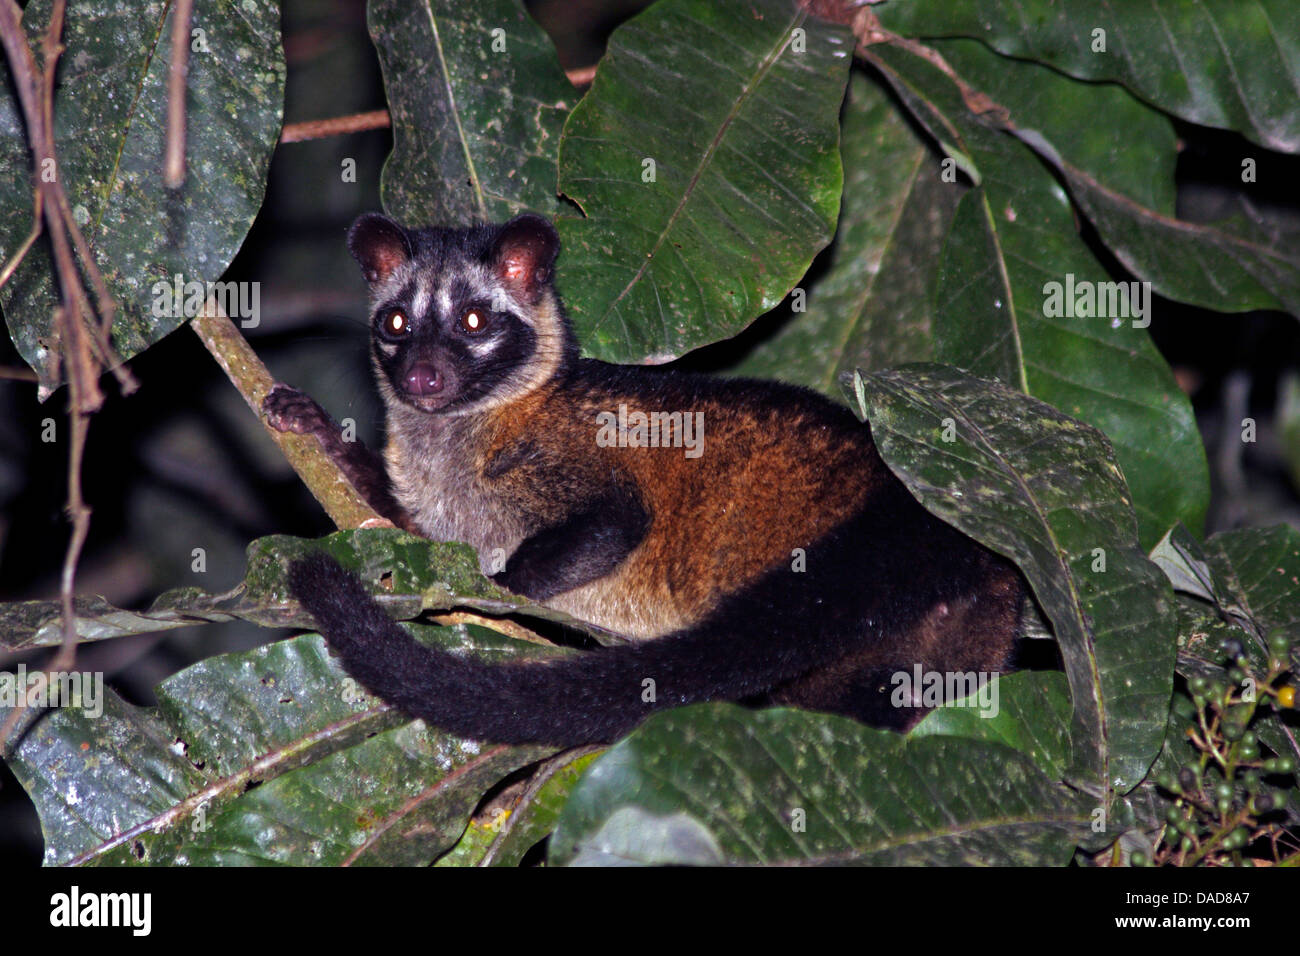Civet: (306, 207, 1039, 757)
